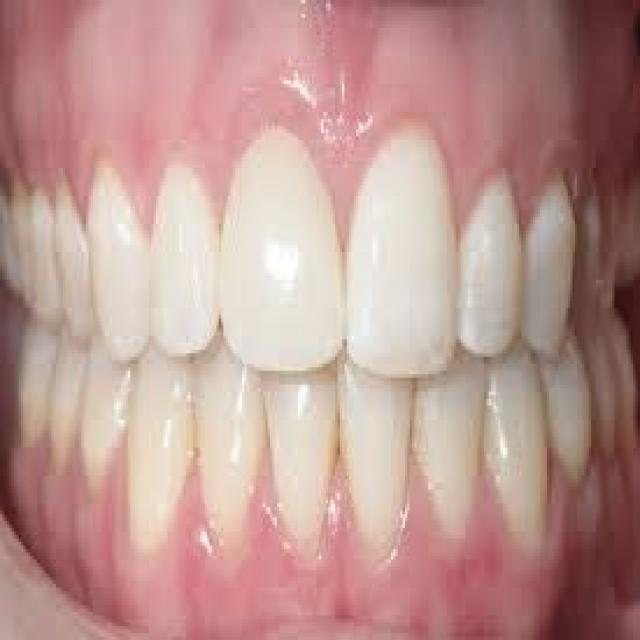tooth: (219, 133, 347, 371), (349, 119, 459, 371), (333, 339, 421, 560), (195, 332, 268, 563), (260, 353, 346, 549), (146, 150, 224, 364), (409, 350, 494, 542), (484, 339, 554, 549), (128, 343, 191, 570), (456, 161, 524, 364), (79, 161, 149, 350), (530, 172, 580, 374), (76, 336, 132, 504), (540, 322, 596, 486)
